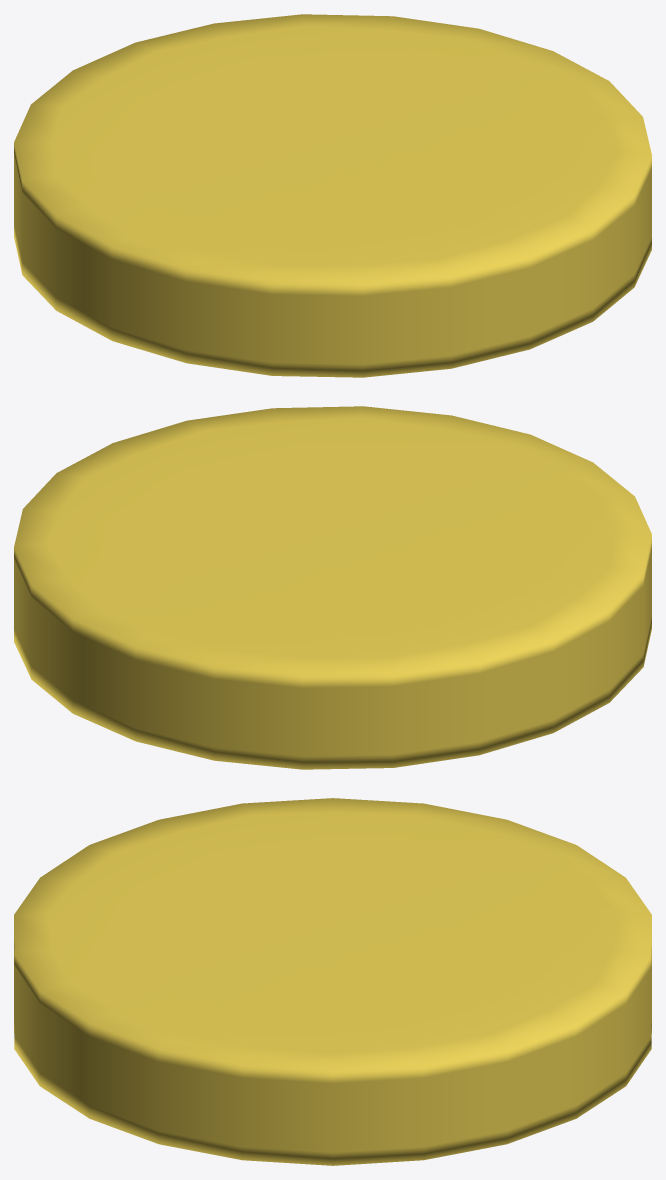
The model's file is coins.fbx.
The picture shows the model from 3 angles, top to bottom: view 1: azimuth 30°, elevation 25°; view 2: azimuth 150°, elevation 25°; view 3: azimuth 270°, elevation 25°; orthographic projection.
Visible parts, largest first — view 1: pCylinder1; view 2: pCylinder1; view 3: pCylinder1.
Boxes of the visible parts, x1=… form: pCylinder1: x1=14, y1=14, x2=651, y2=377; pCylinder1: x1=14, y1=406, x2=651, y2=769; pCylinder1: x1=14, y1=798, x2=651, y2=1165.
Size of the model in its own units: 5 by 0.8677 by 4.95.
